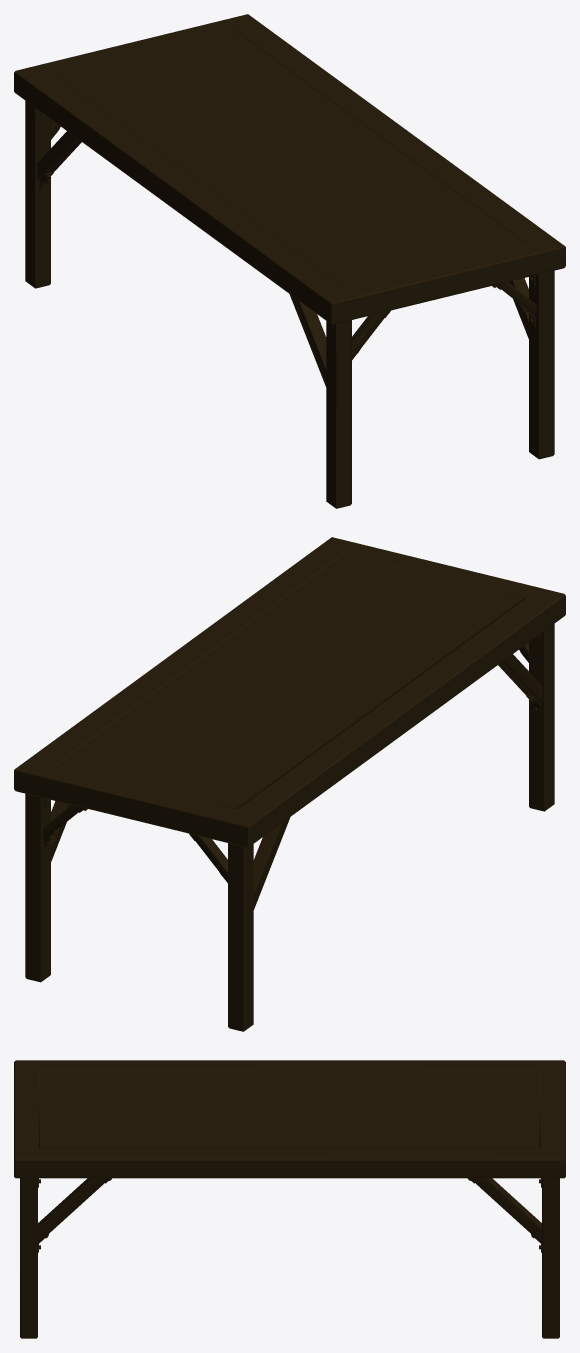
File: table.glb
3 renders of one model, top to bottom at view 1: azimuth 30°, elevation 25°; view 2: azimuth 150°, elevation 25°; view 3: azimuth 270°, elevation 25°, orthographic. The views are drawn at different scales.
Visible parts, largest first — view 1: Table_Rough_32; view 2: Table_Rough_32; view 3: Table_Rough_32.
Boxes of the visible parts, x1,y1,x2,y2 form: Table_Rough_32: [14, 14, 565, 508]; Table_Rough_32: [14, 537, 565, 1031]; Table_Rough_32: [14, 1060, 565, 1338].
Bounding box in the file's own units: 0.8612 × 0.7373 × 2.02.
